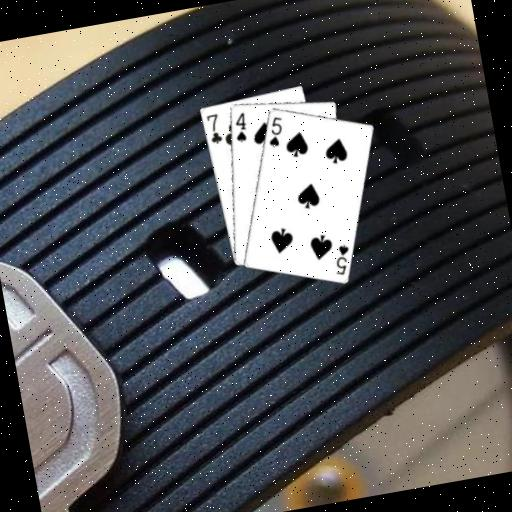4S: (227, 108, 250, 144)
5S: (261, 112, 287, 149), (328, 240, 354, 277)
7C: (202, 110, 224, 146)
